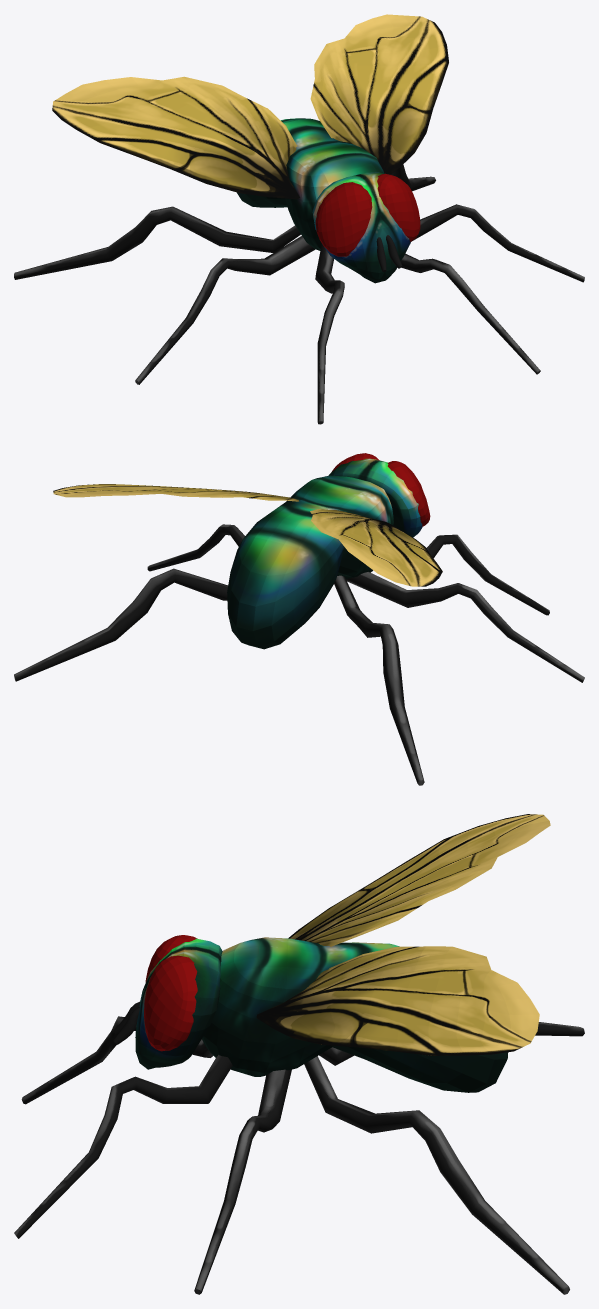
File: new_fly.glb
3 views of the same model, one above another, from view 1: azimuth 30°, elevation 25°; view 2: azimuth 150°, elevation 25°; view 3: azimuth 270°, elevation 25° (orthographic). The views are drawn at different scales.
Parts seen in each view (by area): view 1: Cube.003, Cube.003_Material.004_0.077, Cube.001_Material.005_0, Cube.004, NurbsPath.002, NurbsPath.001, NurbsPath, Cube_Material.001_0; view 2: Cube.001_Material.005_0, NurbsPath.002, Cube.003, NurbsPath.001, Cube_Material.001_0, Cube.003_Material.004_0.077, NurbsPath, Cube.004; view 3: Cube.003_Material.004_0.077, Cube.001_Material.005_0, Cube.003, NurbsPath.002, NurbsPath, Cube.004, Cube_Material.001_0, NurbsPath.001.
Boxes of the visible parts, x1=… form: Cube.003: x1=52, y1=76, x2=299, y2=199; Cube.003_Material.004_0.077: x1=310, y1=14, x2=448, y2=174; Cube.001_Material.005_0: x1=237, y1=118, x2=384, y2=250; Cube.004: x1=315, y1=173, x2=420, y2=256; NurbsPath.002: x1=14, y1=164, x2=435, y2=279; NurbsPath.001: x1=135, y1=204, x2=584, y2=384; NurbsPath: x1=315, y1=244, x2=540, y2=424; Cube_Material.001_0: x1=312, y1=172, x2=410, y2=283; Cube.001_Material.005_0: x1=227, y1=475, x2=393, y2=649; NurbsPath.002: x1=14, y1=568, x2=424, y2=785; Cube.003: x1=310, y1=509, x2=442, y2=586; NurbsPath.001: x1=147, y1=524, x2=584, y2=682; Cube_Material.001_0: x1=328, y1=458, x2=422, y2=537; Cube.003_Material.004_0.077: x1=53, y1=484, x2=298, y2=501; NurbsPath: x1=426, y1=534, x2=549, y2=615; Cube.004: x1=332, y1=453, x2=430, y2=526; Cube.003_Material.004_0.077: x1=256, y1=946, x2=539, y2=1055; Cube.001_Material.005_0: x1=202, y1=937, x2=508, y2=1092; Cube.003: x1=288, y1=814, x2=550, y2=946; NurbsPath.002: x1=304, y1=1022, x2=584, y2=1294; NurbsPath: x1=14, y1=1016, x2=232, y2=1238; Cube.004: x1=144, y1=935, x2=197, y2=1051; Cube_Material.001_0: x1=135, y1=938, x2=222, y2=1069; NurbsPath.001: x1=194, y1=1069, x2=291, y2=1294.
Bounding box in the file's own units: 8.01 × 3.54 × 6.94.
Materials: 5 (4 with a texture image).
